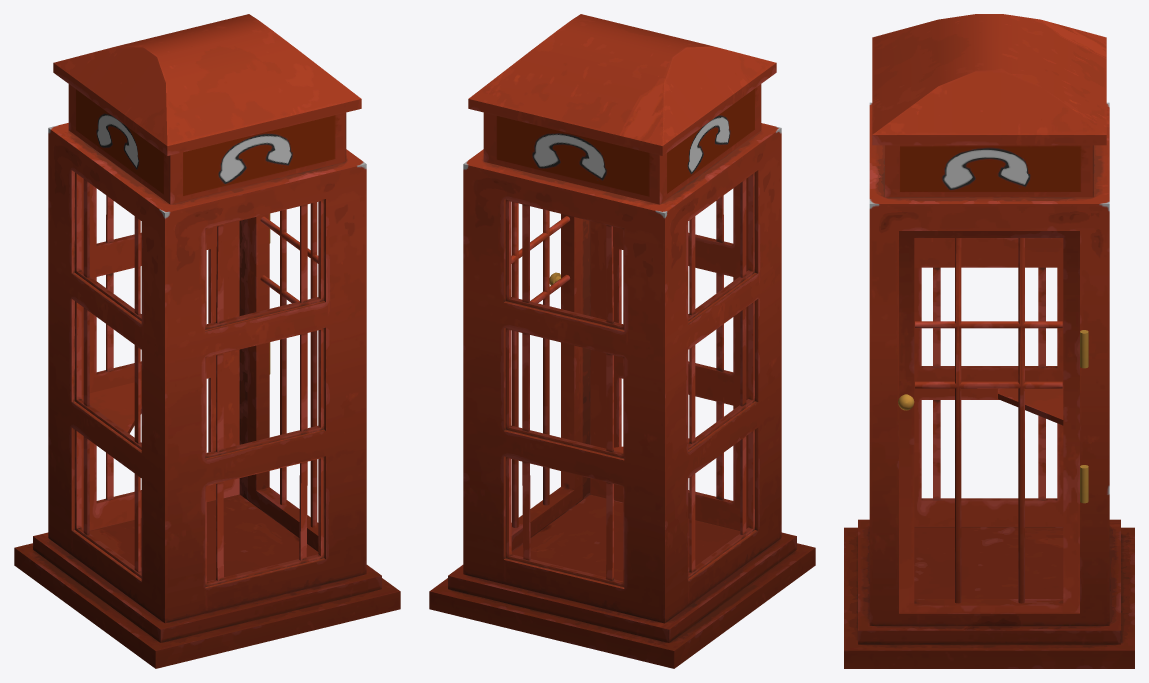
The model's file is ch2 s2 phone booth.fbx.
3 renders of one model, left to right at view 1: azimuth 30°, elevation 25°; view 2: azimuth 150°, elevation 25°; view 3: azimuth 270°, elevation 25°, orthographic. The views are drawn at different scales.
Parts seen in each view (by area): view 1: SM_Telephone_Booth_LOD0.mo, SM_Telephone_Booth_Door_LOD0.mo; view 2: SM_Telephone_Booth_LOD0.mo, SM_Telephone_Booth_Door_LOD0.mo; view 3: SM_Telephone_Booth_LOD0.mo, SM_Telephone_Booth_Door_LOD0.mo.
Boxes of the visible parts, bbox=[...] form: SM_Telephone_Booth_LOD0.mo: bbox=[14, 14, 400, 668]; SM_Telephone_Booth_Door_LOD0.mo: bbox=[247, 202, 318, 550]; SM_Telephone_Booth_LOD0.mo: bbox=[429, 14, 815, 668]; SM_Telephone_Booth_Door_LOD0.mo: bbox=[511, 202, 582, 550]; SM_Telephone_Booth_LOD0.mo: bbox=[844, 14, 1134, 668]; SM_Telephone_Booth_Door_LOD0.mo: bbox=[898, 231, 1079, 612].
Bounding box in the file's own units: 121 × 258 × 121.
